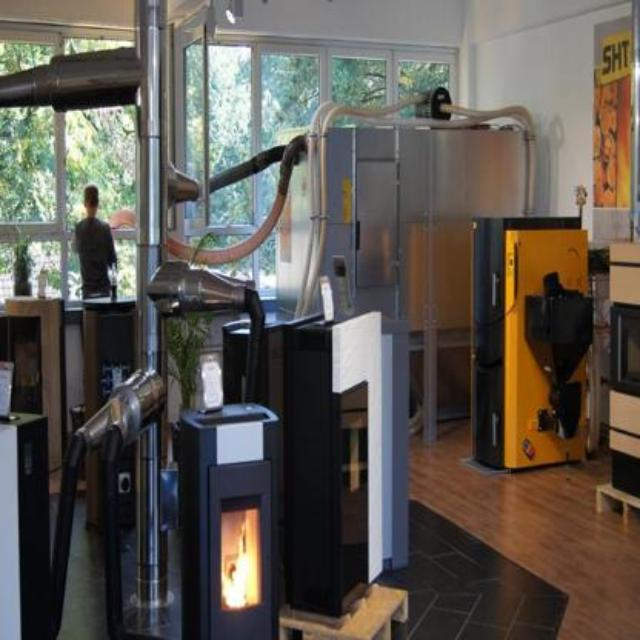Fire: (220, 514, 258, 608)
